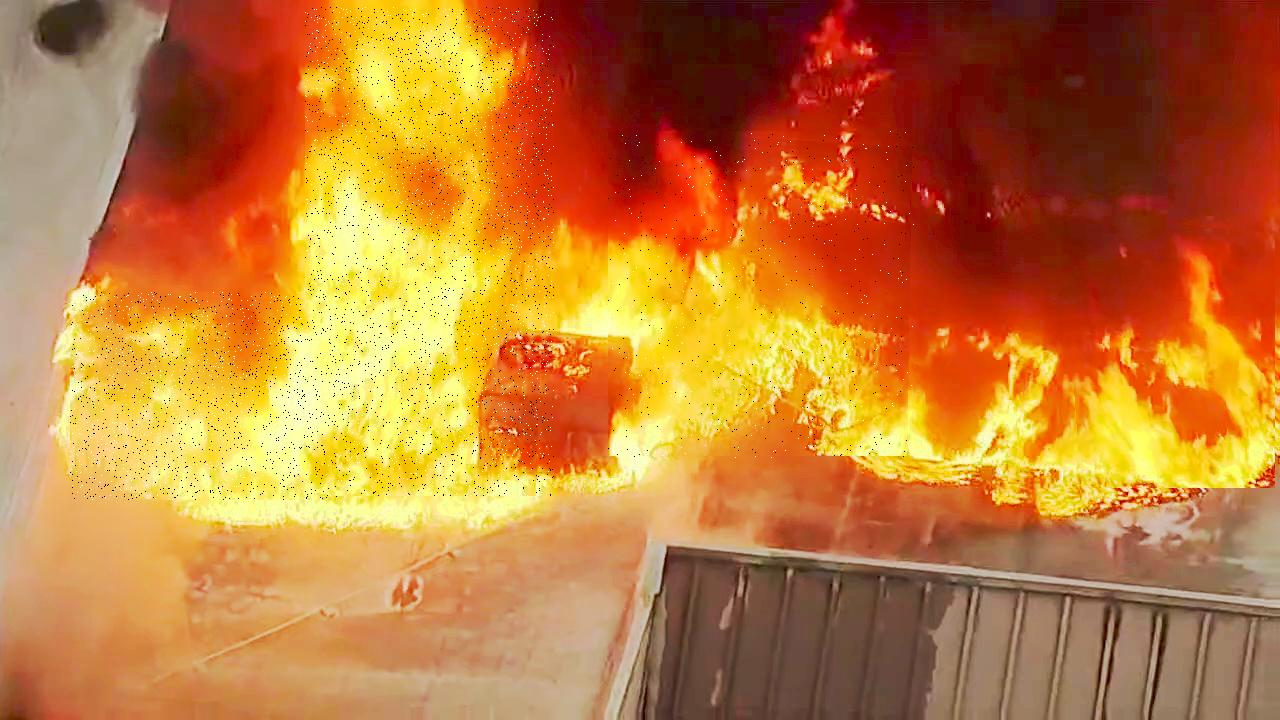fire: (305, 7, 554, 496), (609, 132, 915, 459), (1064, 217, 1278, 491), (70, 292, 337, 500)
